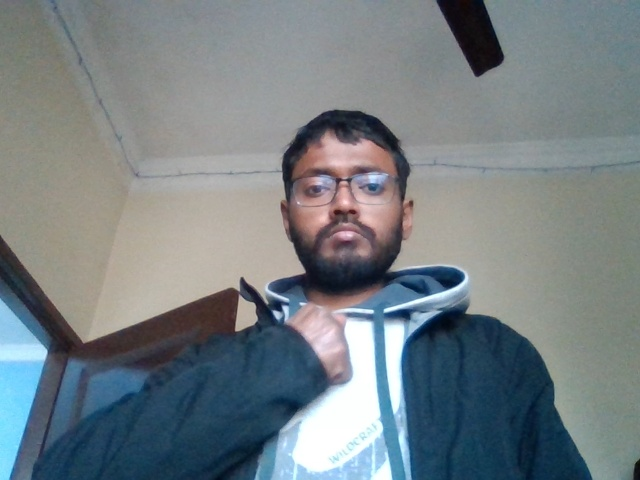sorry: (236, 294, 377, 408)
